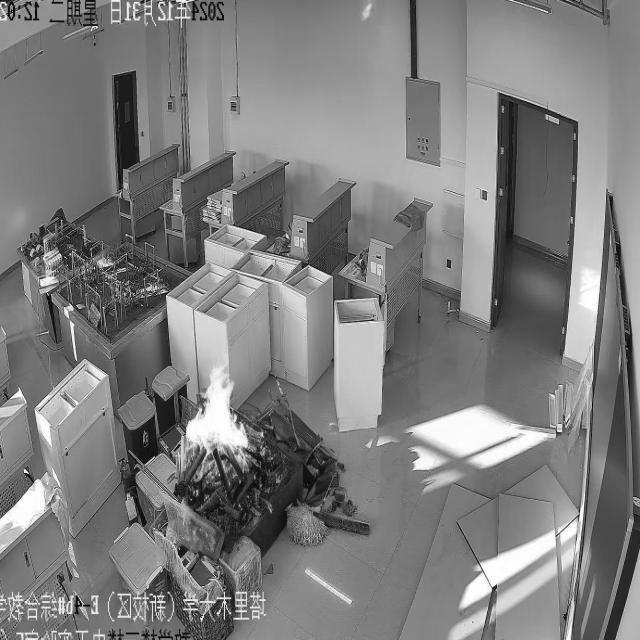smoke: (186, 355, 254, 478)
